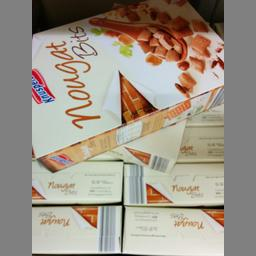cereal: (31, 0, 223, 174)
